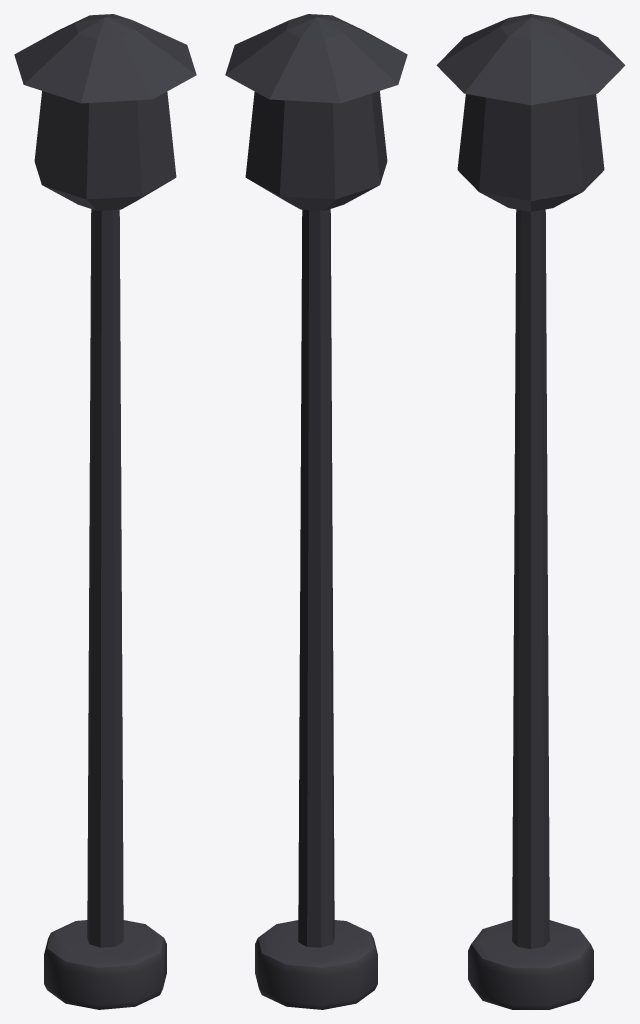
The model's file is StreetLamp.fbx.
The picture shows the model from 3 angles, left to right: view 1: azimuth 30°, elevation 25°; view 2: azimuth 150°, elevation 25°; view 3: azimuth 270°, elevation 25°; orthographic projection.
Visible parts, largest first — view 1: StreetLamp; view 2: StreetLamp; view 3: StreetLamp.
Part boxes in pixels (x1=…): StreetLamp: x1=14, y1=14, x2=196, y2=1009; StreetLamp: x1=225, y1=14, x2=407, y2=1009; StreetLamp: x1=436, y1=14, x2=625, y2=1009.
Size of the model in its own units: 1.8 by 10.2 by 1.8.
1 material, 1 textured.
